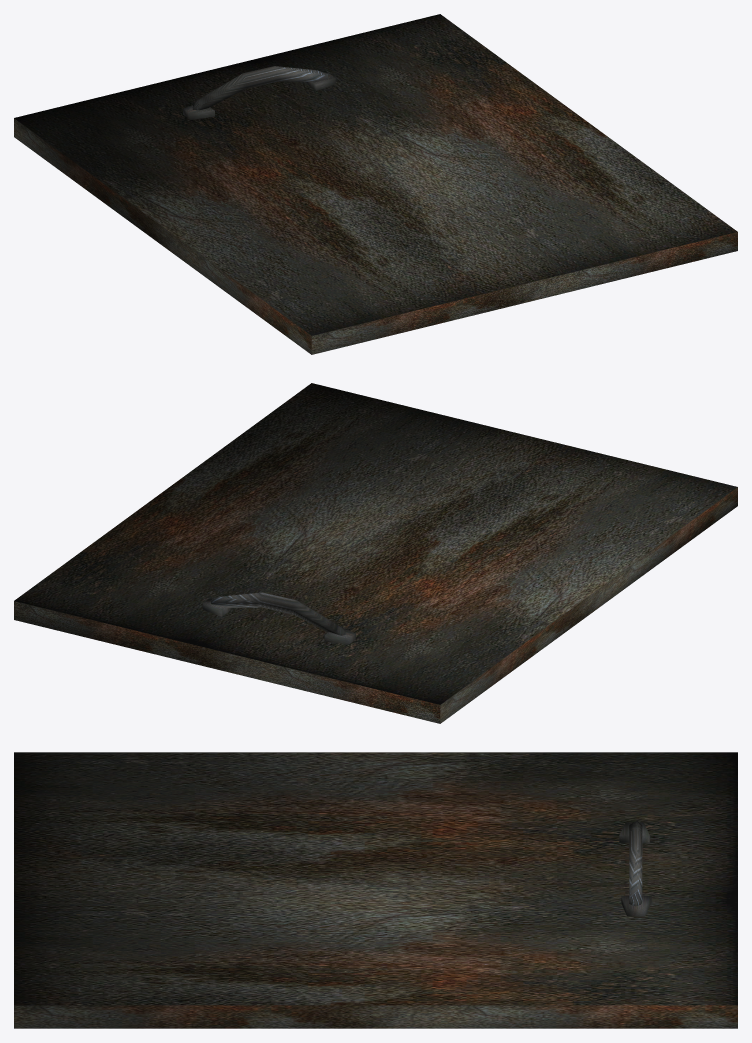
Rendered from ex_de_ship_trapdoor.dae.
3 renders of one model, top to bottom at view 1: azimuth 30°, elevation 25°; view 2: azimuth 150°, elevation 25°; view 3: azimuth 270°, elevation 25°, orthographic. The views are drawn at different scales.
Parts seen in each view (by area): view 1: nifid_6-matrix, nifid_1-matrix; view 2: nifid_6-matrix, nifid_1-matrix; view 3: nifid_6-matrix, nifid_1-matrix.
Part boxes in pixels (left/top/right/bottom): nifid_6-matrix: left=14, top=14, right=737, bottom=354; nifid_1-matrix: left=183, top=66, right=335, bottom=119; nifid_6-matrix: left=14, top=383, right=737, bottom=723; nifid_1-matrix: left=202, top=592, right=355, bottom=644; nifid_6-matrix: left=14, top=752, right=737, bottom=1028; nifid_1-matrix: left=619, top=820, right=651, bottom=916.
Size of the model in its own units: 95.99 by 116 by 10.39.
Materials: 2 (2 with a texture image).
